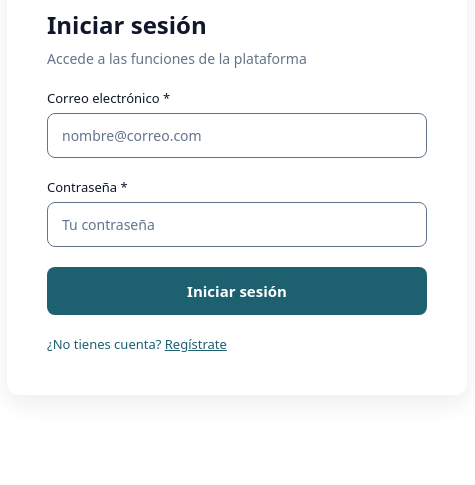
HU-02 inicio de sesión › credenciales inválidas: mensaje genérico y contraseña borrada
Type "ana@correo.com" into the field with id "login-correo" at (237, 136), box [47, 113, 427, 158]
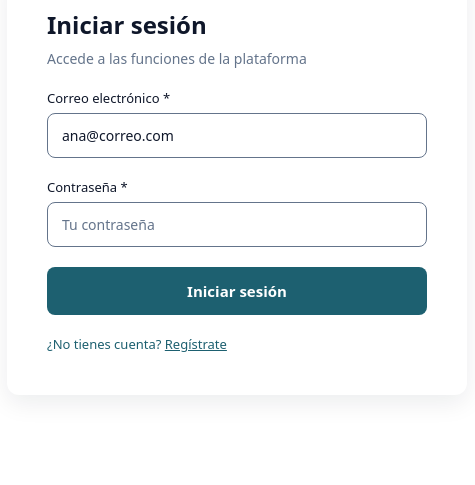
Type "mala" into the password field with id "login-contrasena" at (237, 224), box [47, 202, 427, 247]
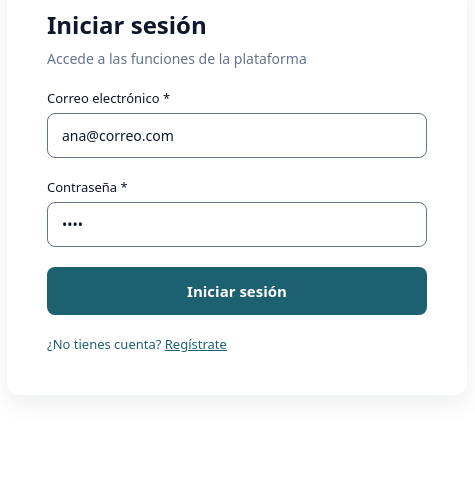
Click the button "Iniciar sesión" at (237, 291), box [47, 267, 427, 315]
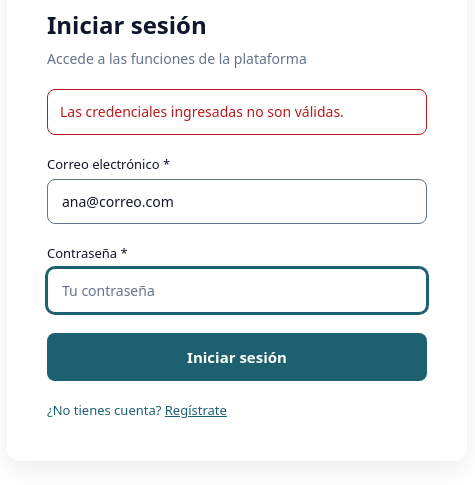
Result: the message reads "Las credenciales ingresadas no son válidas." at [60, 102, 344, 121]
Result: the password field with id "login-contrasena" is empty at [47, 268, 427, 313]
